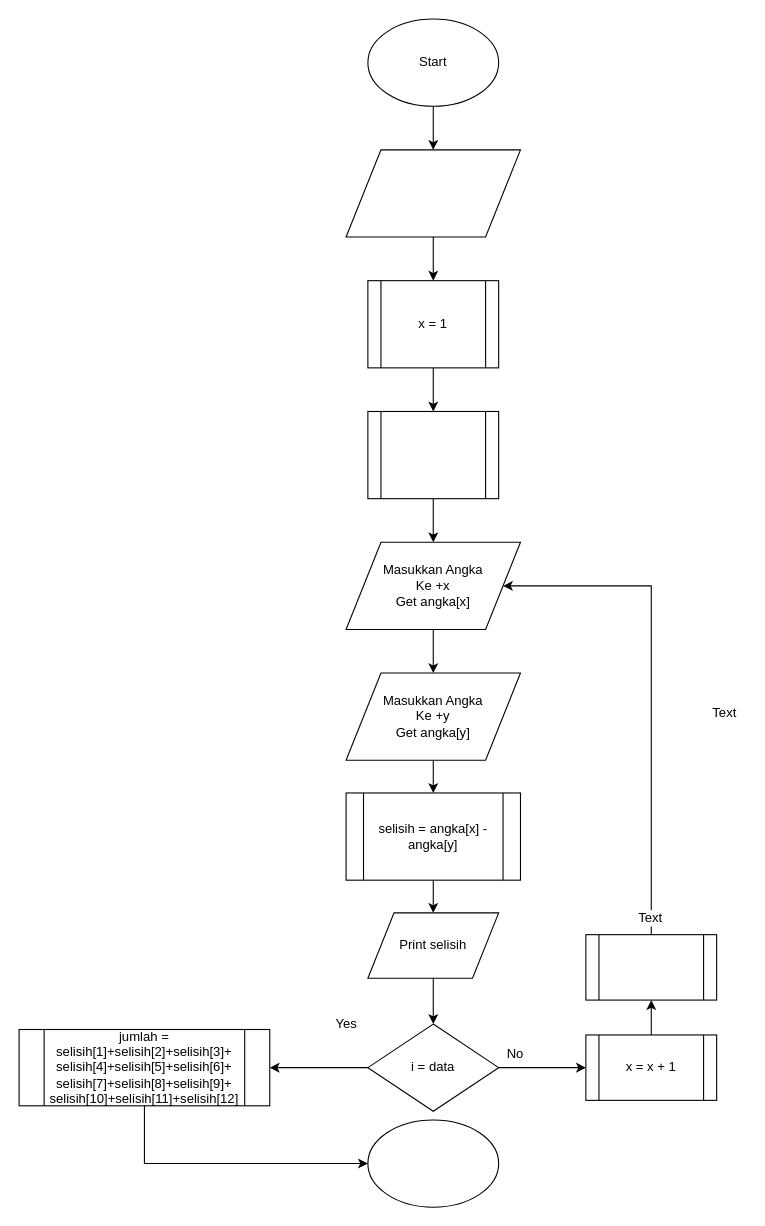
The diagram is 765 pixels wide and 1226 high, and some of its shapes have lost their labels. Each missing label, with the box of its shape:
End: (367, 1119, 499, 1207)
Masukkan Banyak Angka Get data: (345, 149, 520, 237)
y = 2: (367, 410, 499, 499)
y = y + 1: (585, 934, 717, 1000)
